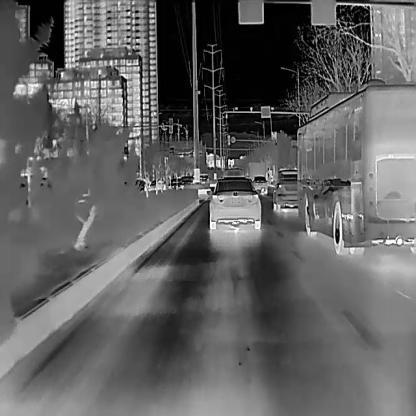car: (296, 77, 415, 255), (209, 177, 261, 228), (272, 168, 296, 209), (246, 162, 266, 176), (252, 175, 267, 193), (167, 178, 183, 188), (135, 178, 146, 192), (180, 175, 194, 185)
